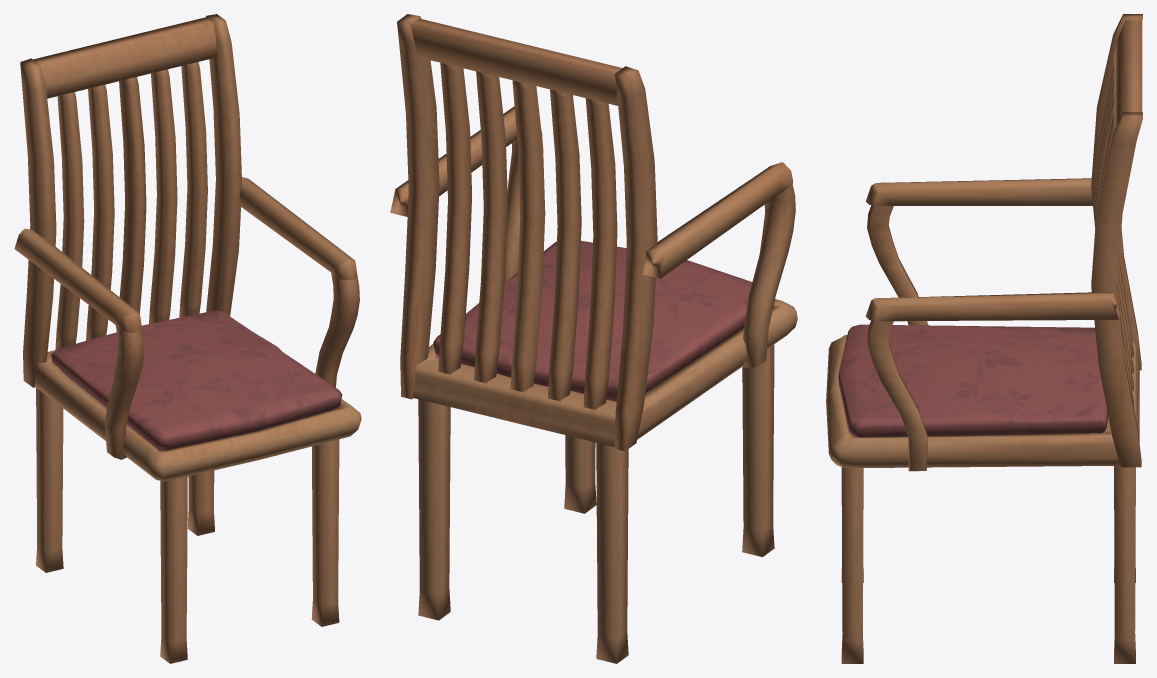
File: chair.fbx
3 renders of one model, left to right at view 1: azimuth 30°, elevation 25°; view 2: azimuth 150°, elevation 25°; view 3: azimuth 270°, elevation 25°, orthographic. The views are drawn at different scales.
Visible parts, largest first — view 1: Chairtop1, Stoelpoten, leuning; view 2: Chairtop1, Stoelpoten, leuning; view 3: Chairtop1, leuning, Stoelpoten.
Part boxes in pixels (x1,y1,x2,y2): Chairtop1: (20,14,361,481); Stoelpoten: (36,387,339,663); leuning: (14,177,359,459); Chairtop1: (397,14,797,451); Stoelpoten: (418,344,774,663); leuning: (390,106,795,368); Chairtop1: (826,14,1142,468); leuning: (865,178,1118,471); Stoelpoten: (841,465,1135,663).
Size of the model in its own units: 2.99 by 6.19 by 3.21.
